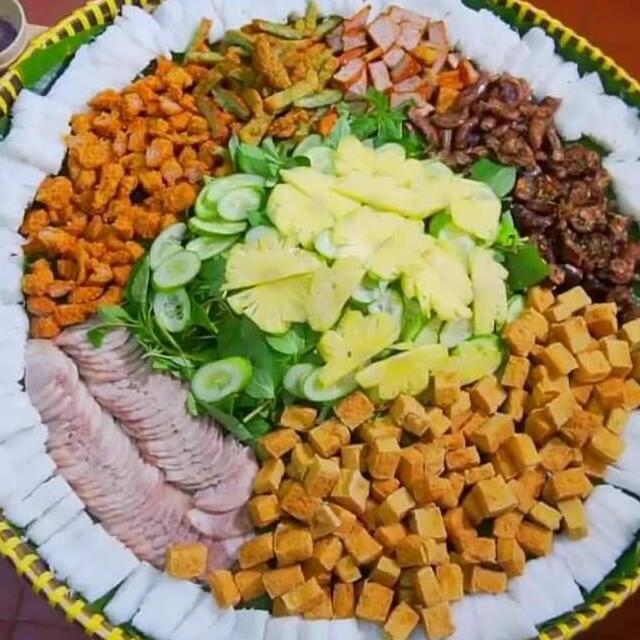bun: (0, 219, 68, 532), (0, 463, 141, 605), (499, 484, 640, 626), (243, 579, 534, 640), (538, 62, 640, 223), (94, 550, 272, 640), (444, 2, 574, 102), (79, 0, 245, 75), (5, 44, 140, 136), (0, 88, 78, 230), (232, 0, 469, 32), (590, 409, 640, 509)
bun dau: (0, 7, 640, 640)
cha com: (176, 0, 354, 154)
dau hu: (159, 266, 640, 640)
doi sun: (396, 64, 640, 322)
thit heo: (16, 314, 262, 596)
